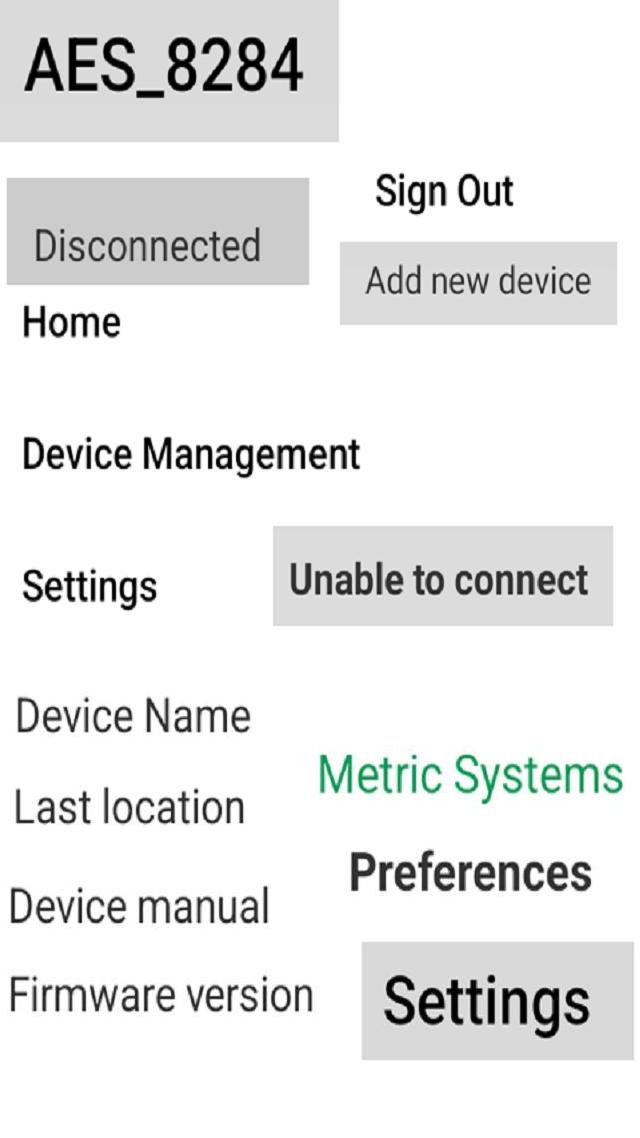Text: (23, 32, 311, 102), (313, 747, 626, 808), (21, 428, 368, 480), (5, 970, 322, 1026), (284, 552, 595, 602), (378, 972, 597, 1043), (344, 842, 601, 901), (6, 883, 278, 933), (10, 689, 257, 743), (8, 779, 249, 829), (30, 222, 266, 266), (358, 262, 598, 305), (16, 560, 160, 618), (368, 167, 520, 220), (15, 297, 124, 346)
